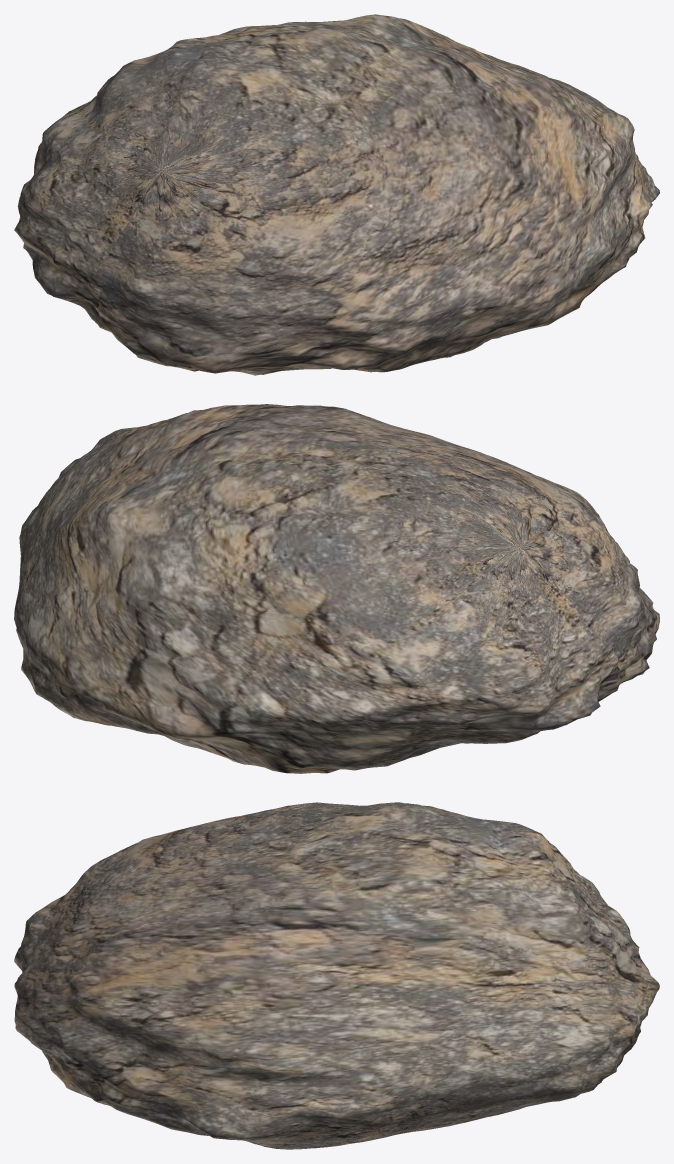
Rendered from Stein 1.fbx.
3 views of the same model, one above another, from view 1: azimuth 30°, elevation 25°; view 2: azimuth 150°, elevation 25°; view 3: azimuth 270°, elevation 25° (orthographic). The views are drawn at different scales.
Parts seen in each view (by area): view 1: Landscape; view 2: Landscape; view 3: Landscape.
Part boxes in pixels (x1=…): Landscape: x1=14, y1=14, x2=659, y2=375; Landscape: x1=14, y1=404, x2=659, y2=773; Landscape: x1=14, y1=802, x2=659, y2=1149.
Size of the model in its own units: 2.4 by 0.9752 by 2.35.
